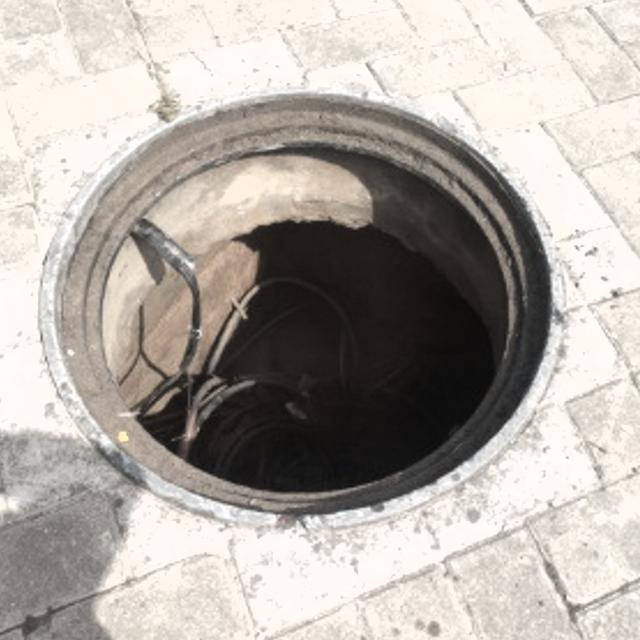lose: (32, 84, 567, 525)
